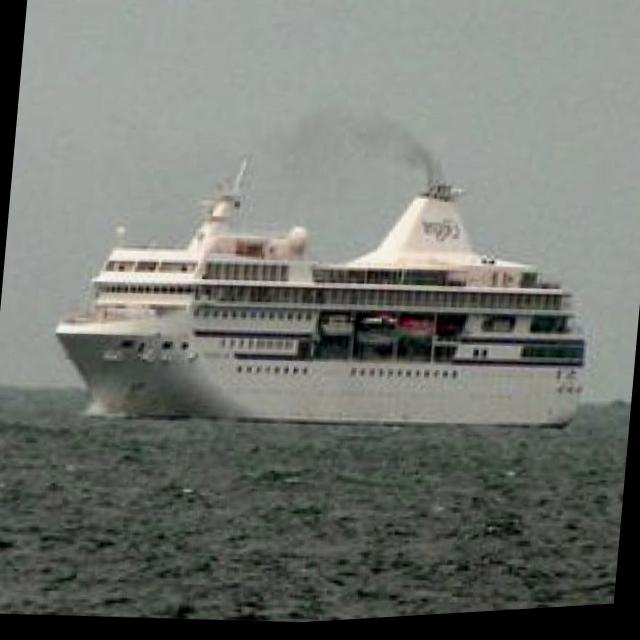ship2: (54, 162, 587, 439)
